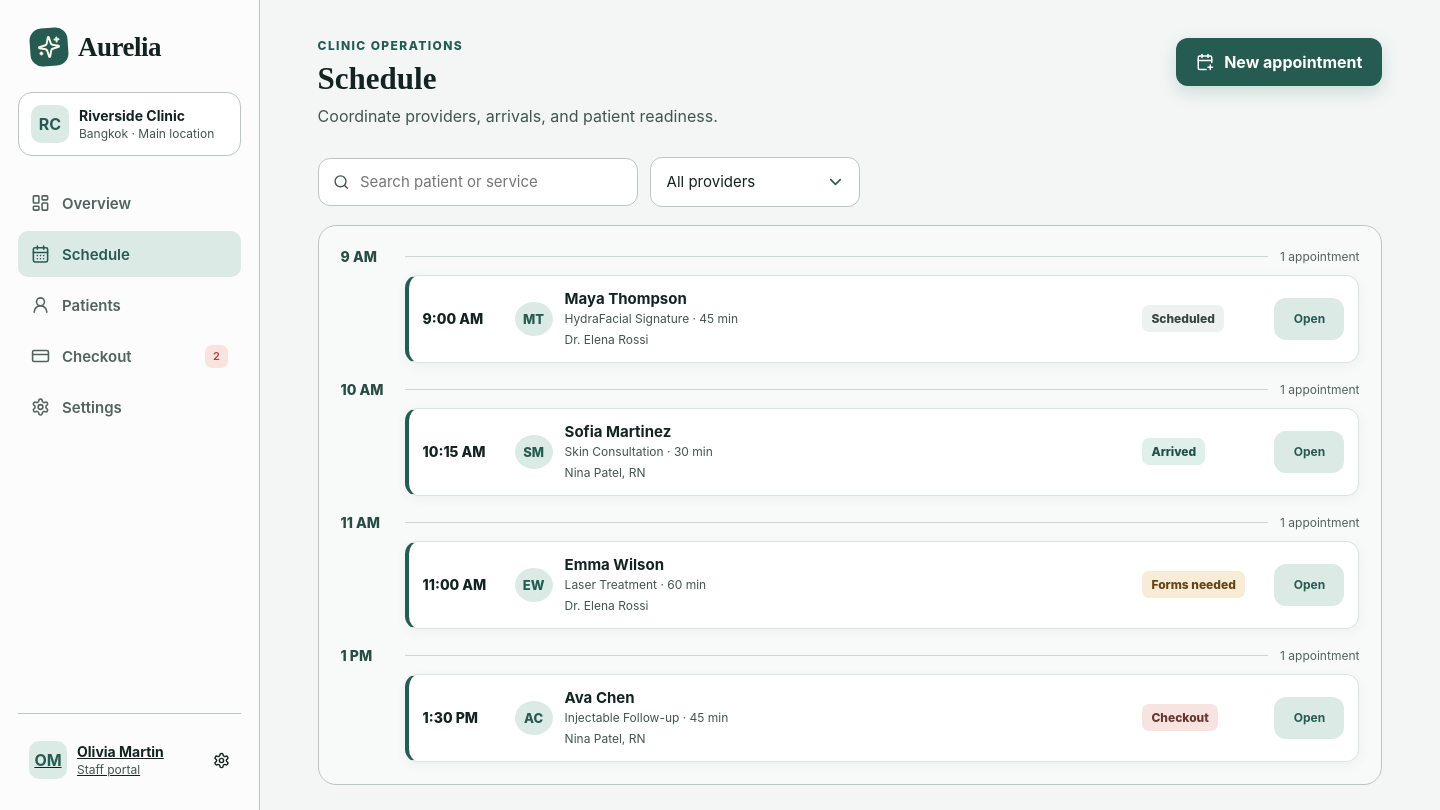
Test: staff pages › filters schedule by patient
The width and height of the screenshot is (1440, 810).
Expected: the heading "Maya Thompson" is shown, [565,289,687,308]
Expected: the text "1 PM" shows "1:30 PM", [423,709,478,726]
Type "Sofia" into the field with placeholder "Search patient or service" at (490, 182), box [358,171,623,192]
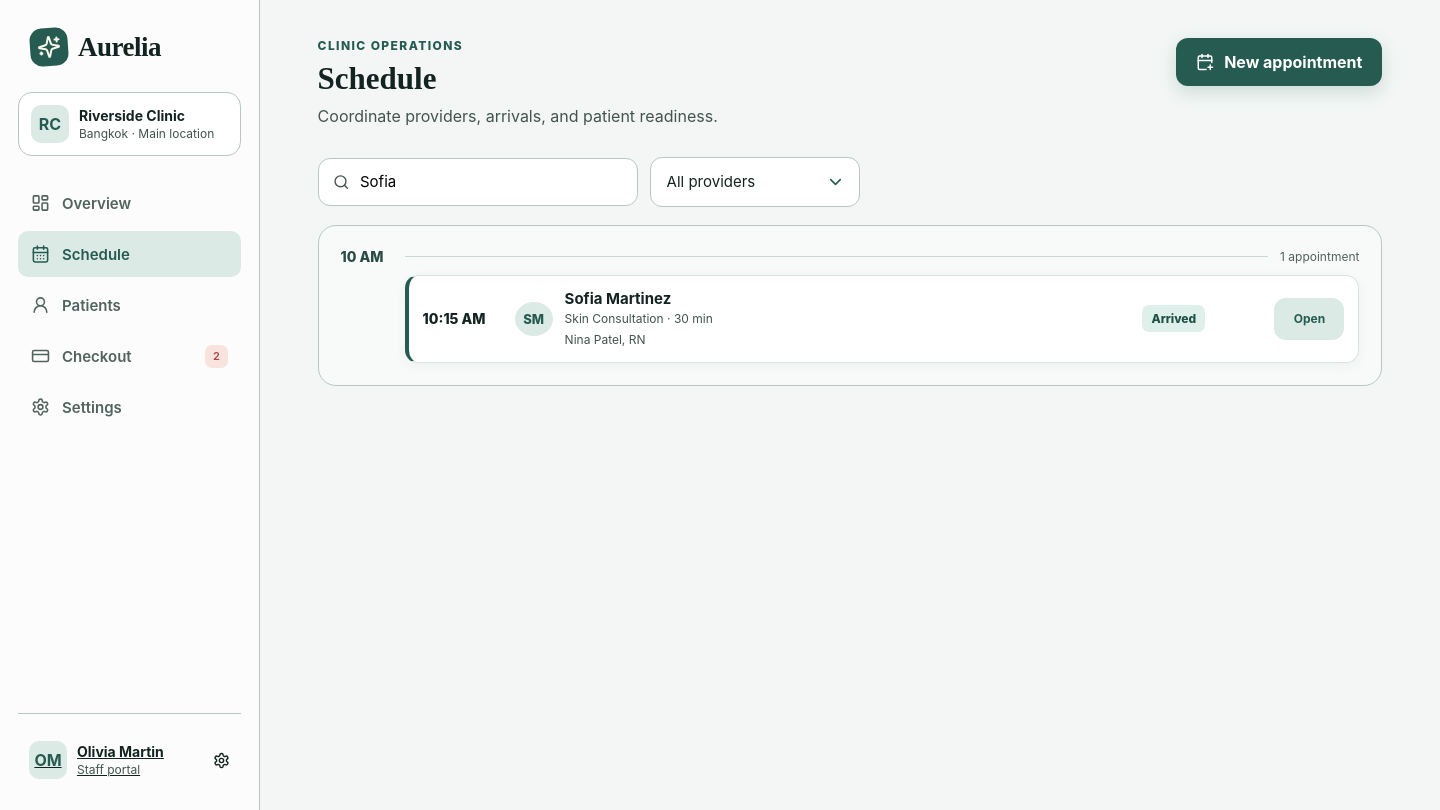
Expected: the heading "Sofia Martinez" is shown, [565,289,671,308]
Now the heading "Maya Thompson" is gone
